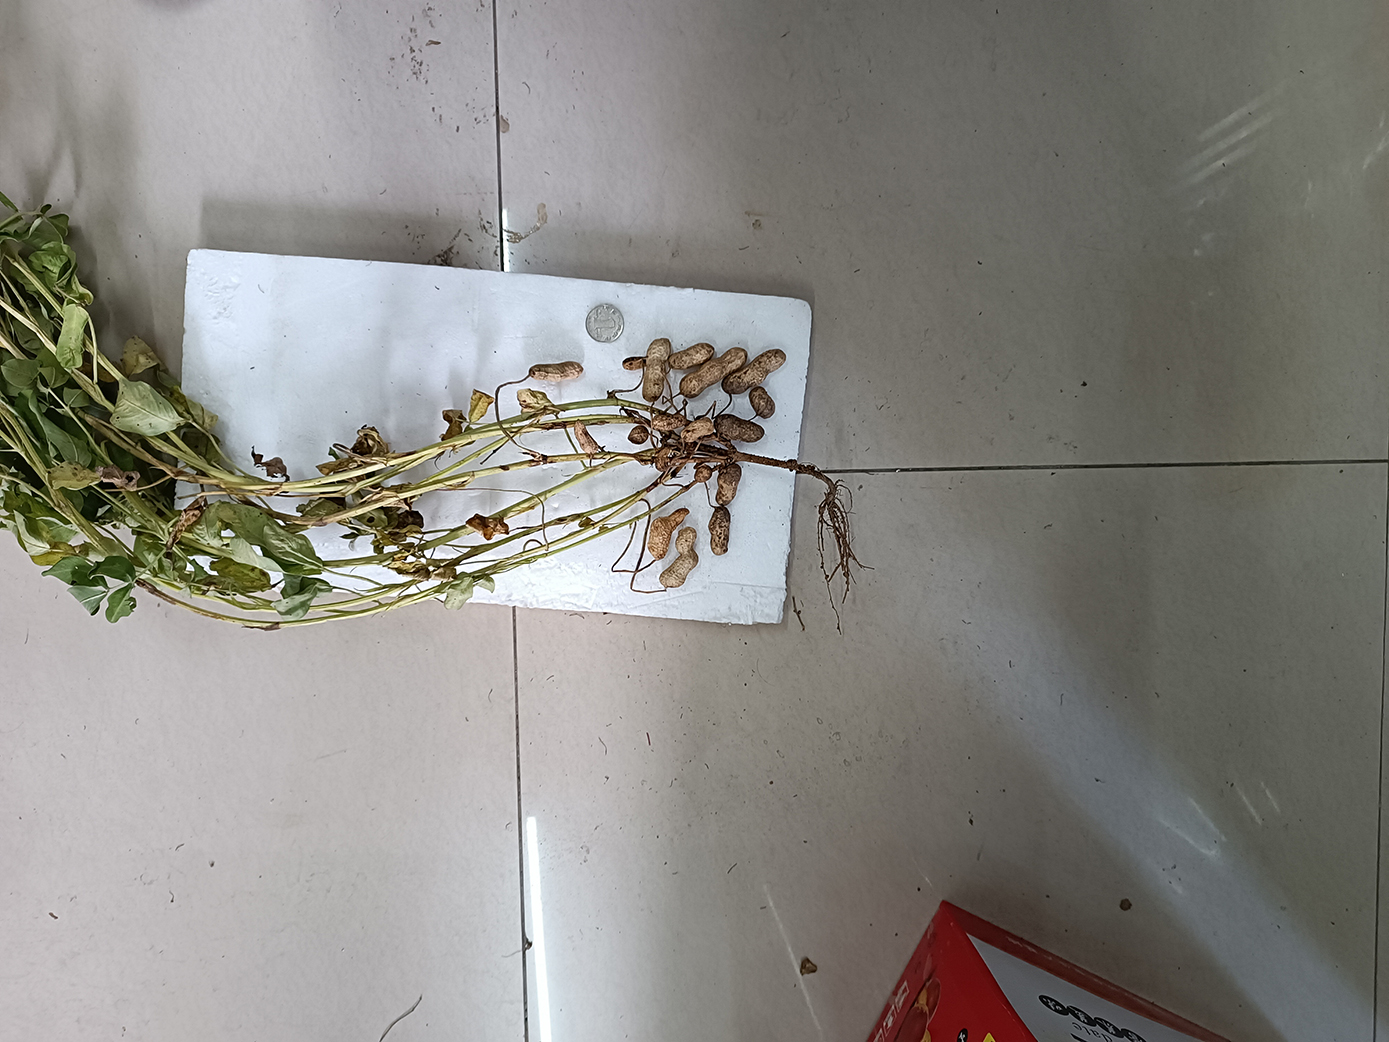h: (681, 347, 746, 398), (724, 349, 785, 394), (659, 526, 699, 587), (648, 508, 688, 560), (643, 339, 670, 401), (528, 361, 584, 382), (669, 344, 713, 368), (572, 419, 599, 459), (683, 418, 711, 444), (653, 445, 672, 473), (628, 425, 650, 445), (652, 417, 686, 430), (622, 357, 645, 371), (695, 465, 711, 483)
l: (716, 414, 765, 442), (708, 507, 731, 555), (748, 387, 775, 420)
